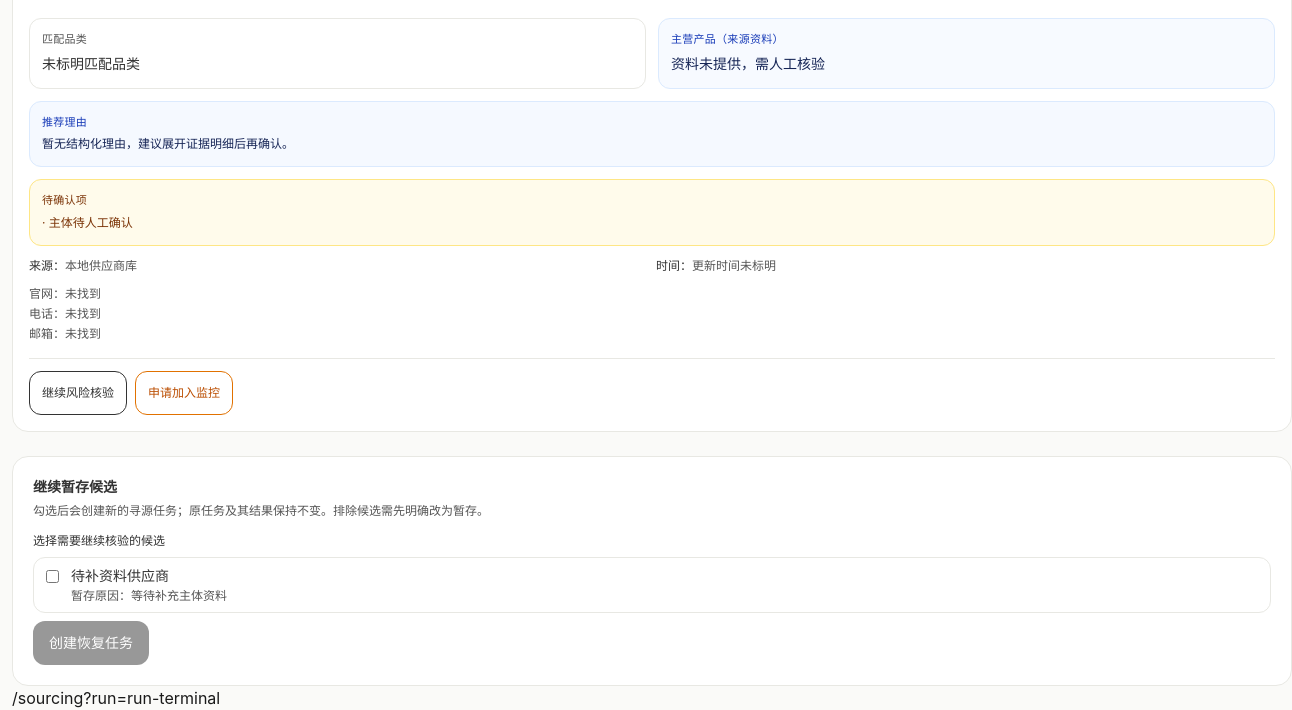
Test case: SourcingRiskWorkbench › lets the user select deferred candidates and opens the derived run from a terminal task
(page scrolled)
Check: the element named "暂存候选恢复" is shown, box [12, 456, 1291, 686]
Check: the text "暂存原因：等待补充主体资料" is shown, box [71, 588, 227, 604]
Click the checkbox named "选择待补资料供应商继续核验" at {"x": 52, "y": 576}, box [46, 570, 59, 582]
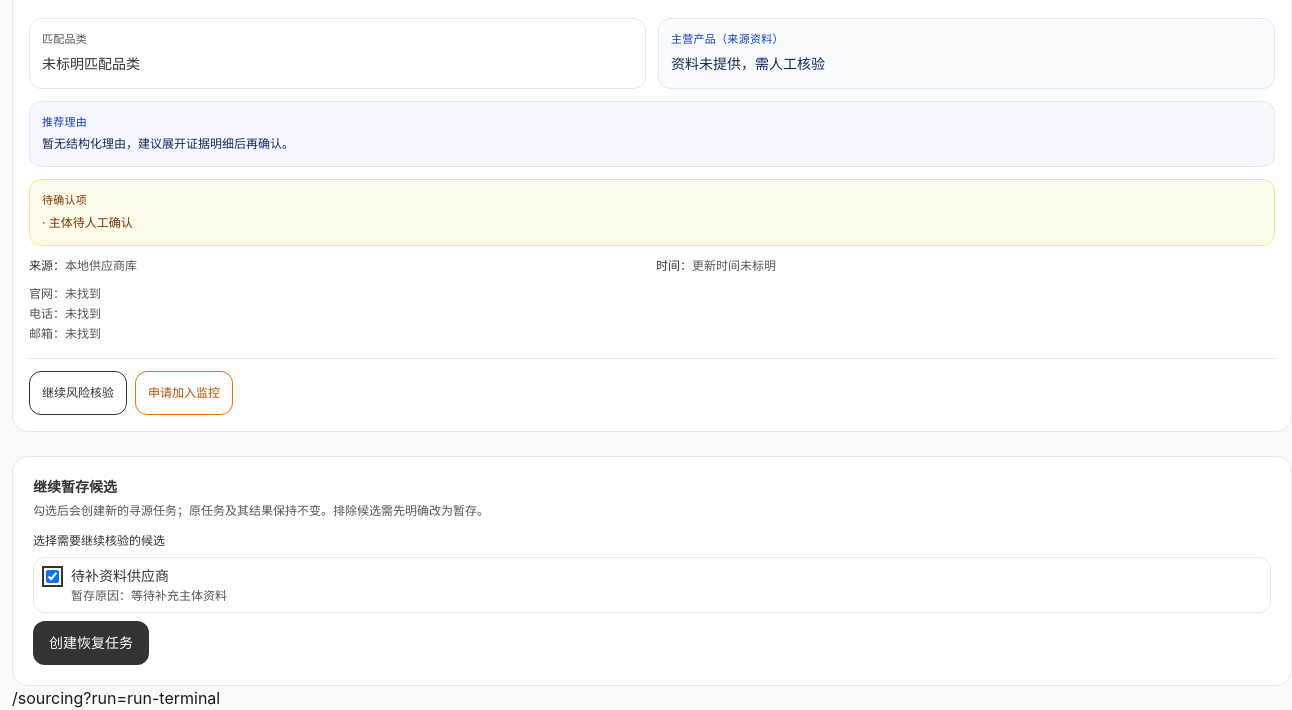
Check: the button "创建恢复任务" is enabled
Click the button "创建恢复任务" at {"x": 91, "y": 642}, box [33, 620, 149, 664]
(page scrolled)
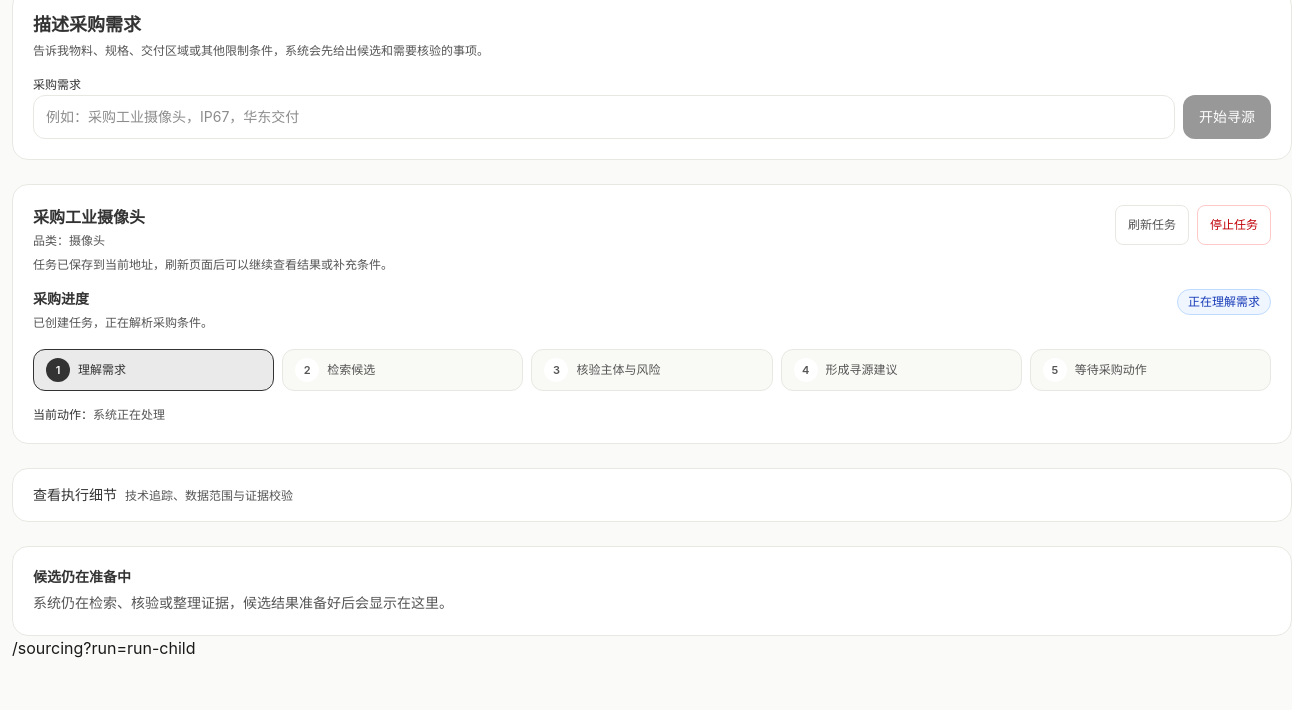
Check: the text with test id "current-route" reads "/sourcing?run=run-child", box [12, 638, 196, 658]
